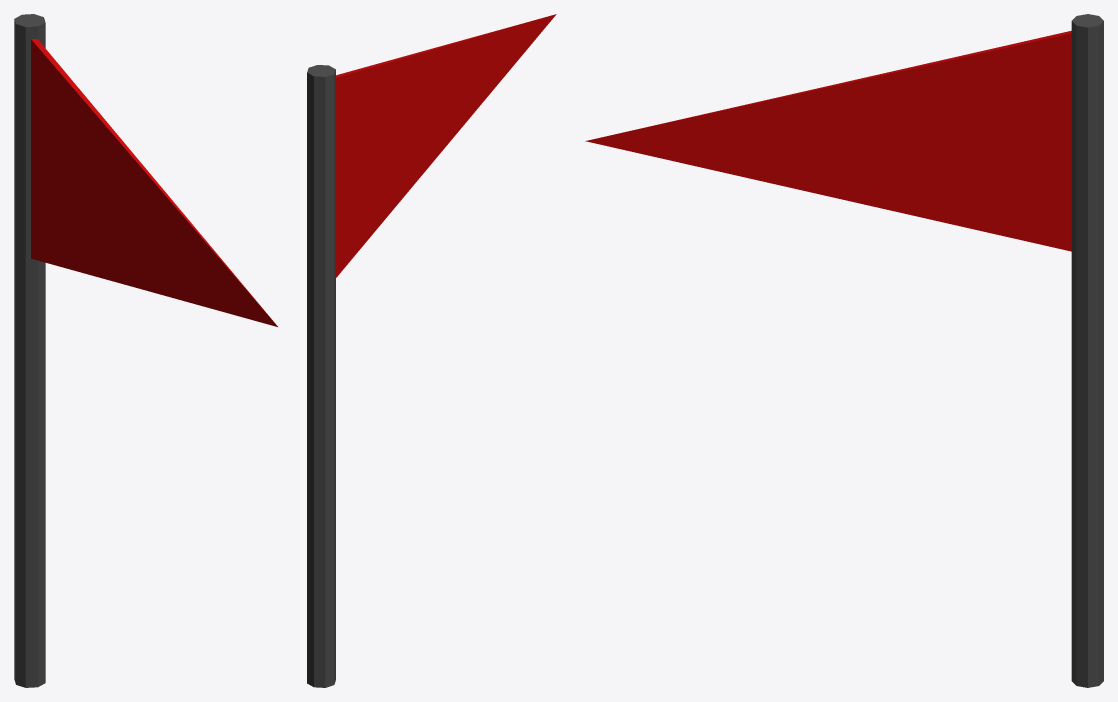
Rendered from banderinOriginal.fbx.
The picture shows the model from 3 angles, left to right: view 1: azimuth 30°, elevation 25°; view 2: azimuth 150°, elevation 25°; view 3: azimuth 270°, elevation 25°; orthographic projection. The views are drawn at different scales.
Parts seen in each view (by area): view 1: Cube, Cylinder; view 2: Cube, Cylinder; view 3: Cube, Cylinder.
Part boxes in pixels (x1,y1,x2,y2): Cube: (31, 39, 277, 326); Cylinder: (14, 14, 45, 687); Cube: (336, 14, 556, 277); Cylinder: (307, 65, 335, 687); Cube: (585, 30, 1071, 251); Cylinder: (1071, 14, 1103, 687).
Bounding box in the file's own units: 0.05 × 1.13 × 0.8062.
